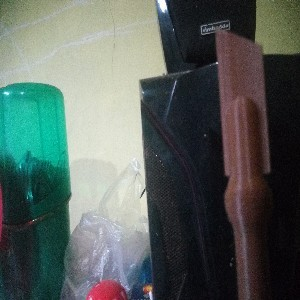cutter: (213, 25, 273, 300)
